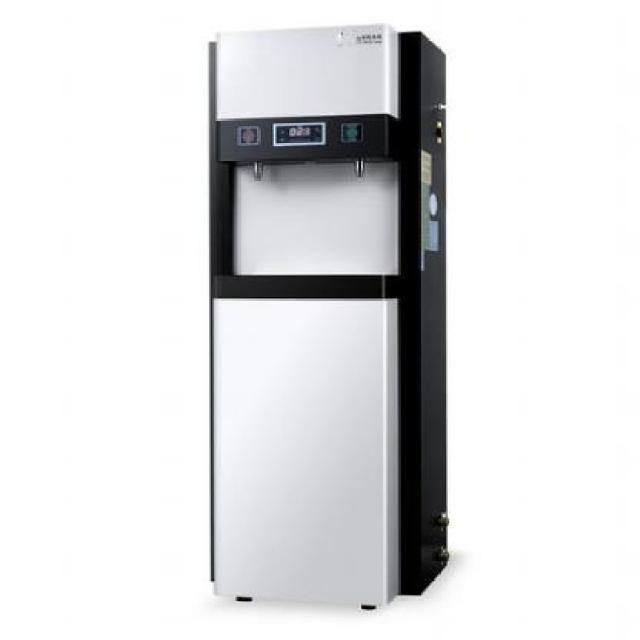cooler: (198, 20, 461, 615)
